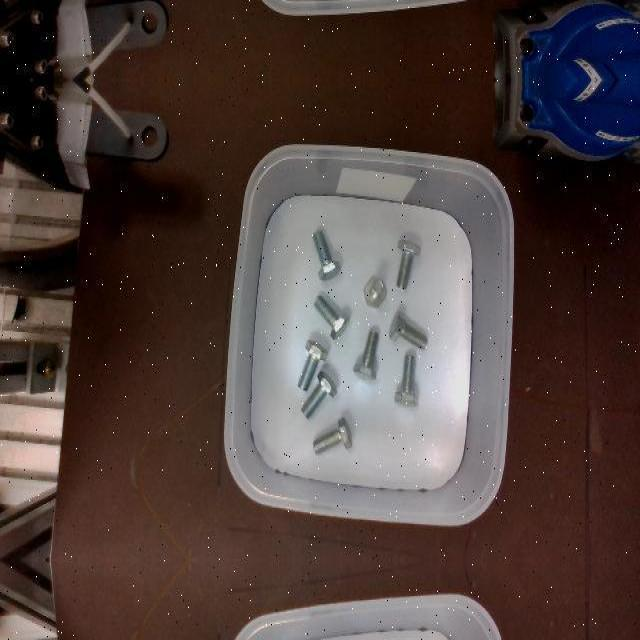screw: (301, 370, 337, 420), (313, 293, 349, 339), (311, 229, 341, 281), (389, 308, 428, 348), (312, 415, 352, 453), (298, 339, 328, 389), (353, 329, 380, 379), (394, 355, 418, 409), (396, 239, 421, 289), (364, 276, 387, 306)
